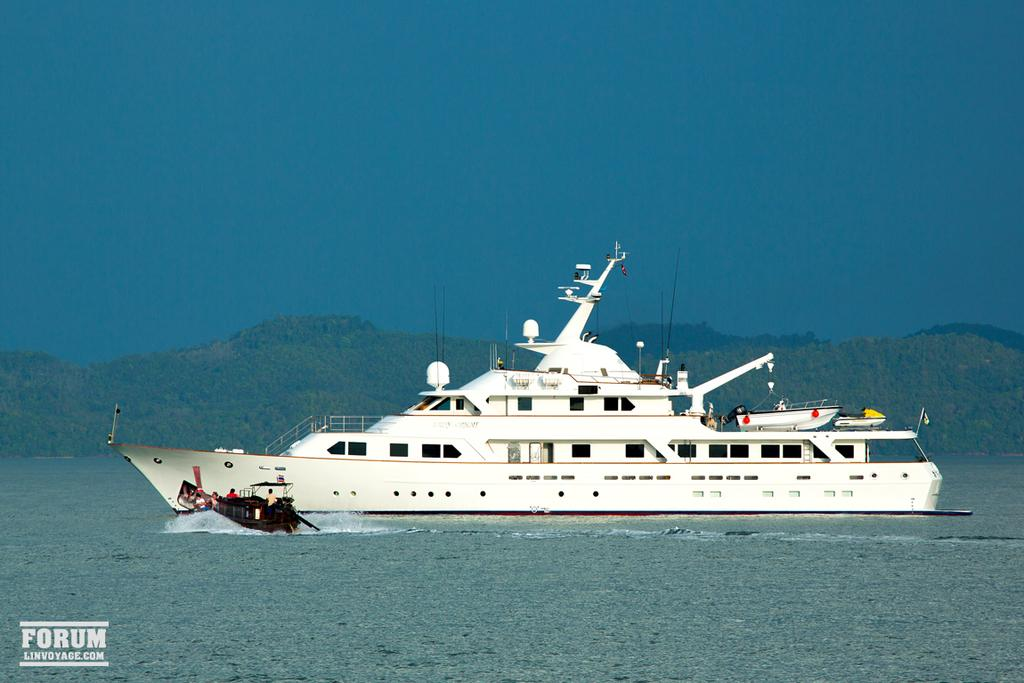PassengerShip: (94, 264, 982, 524)
